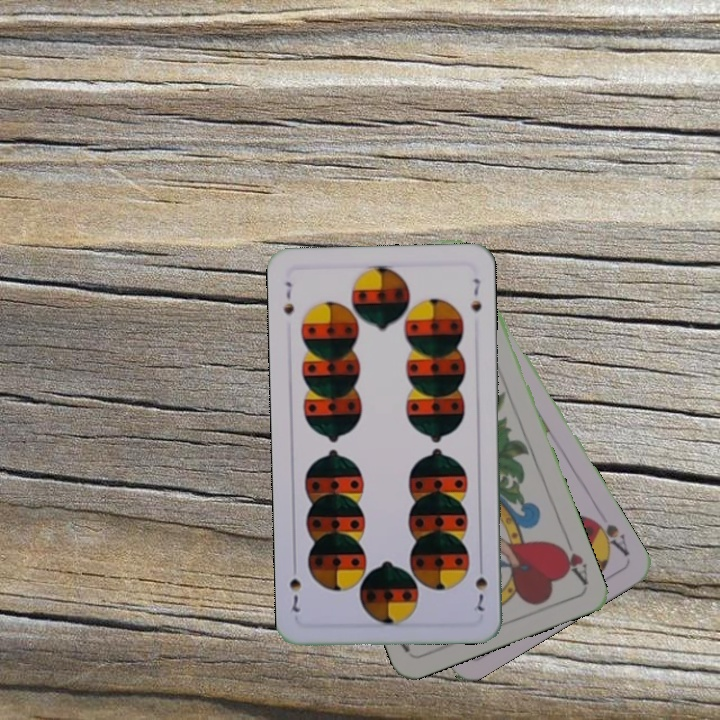HA: (553, 531, 591, 587)
S7: (471, 558, 490, 614), (280, 278, 297, 318)
SA: (586, 513, 632, 559)
